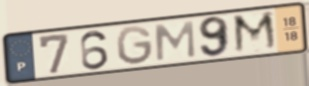6: (78, 28, 111, 71)
7: (36, 32, 71, 75)
9: (196, 14, 231, 59)
G: (114, 24, 155, 67)
M: (231, 9, 281, 56), (153, 19, 198, 62)
